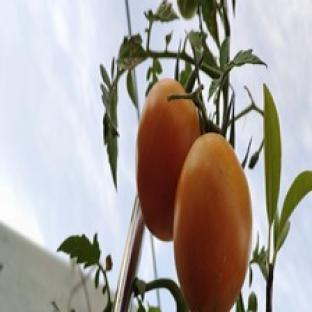Tomato: (175, 134, 252, 311), (137, 78, 200, 240)
